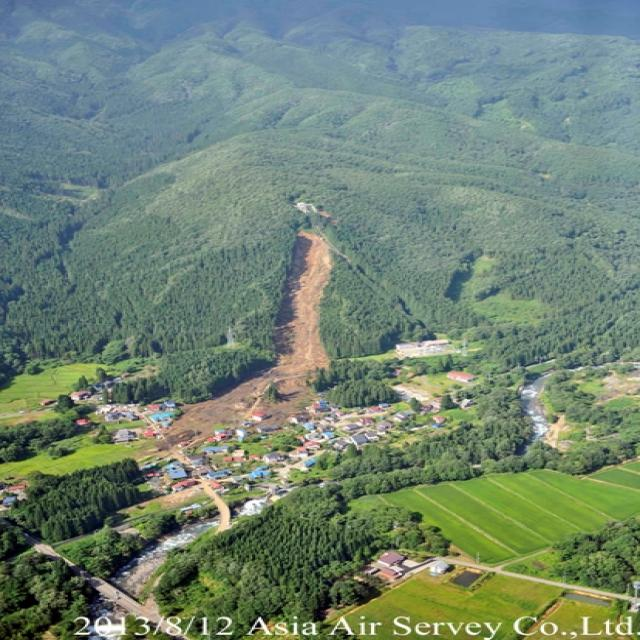Debris-flow: (179, 232, 333, 436), (588, 362, 639, 403)
